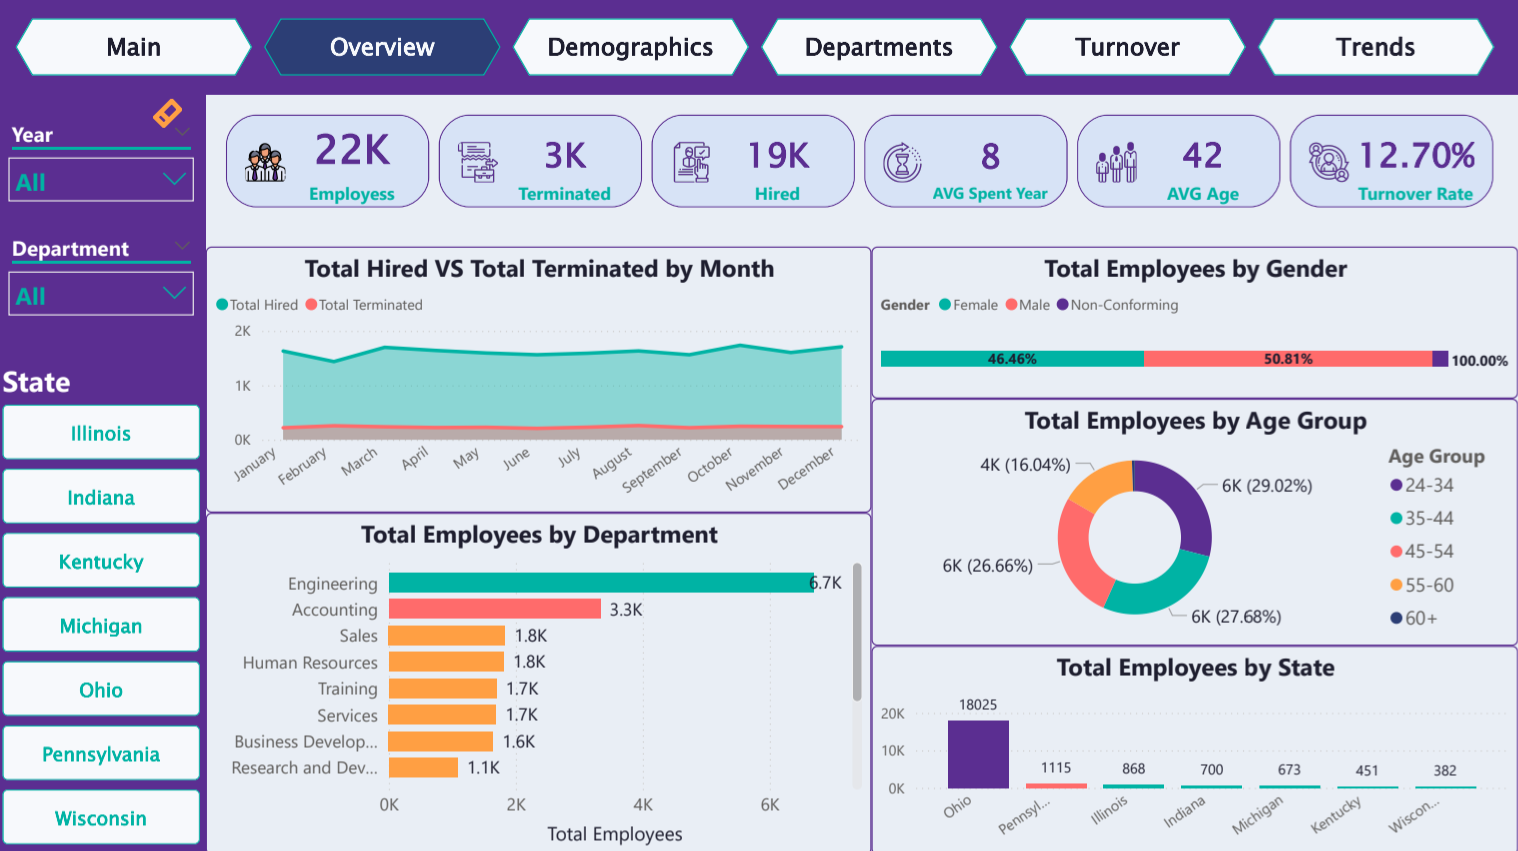

The dashboard page shown, as its layout file describes it:
{"tool":"powerbi","page":{"name":"Overview","canvas":[1280,720],"ordinal":1},"visuals":[{"type":"shape","box":[0,0,1280,80],"z":0,"group":"g1"},{"type":"cardVisual","fields":{"Data":["_Measures.Total_Emp","_Measures.Total_Term","_Measures.Total_Hire","_Measures.AVG_Spend_Year","_Measures.AVG_Age","_Measures.Turnover Rate"]},"box":[176,80,1104,112],"z":0},{"type":"pageNavigator","box":[16,16,1248,48],"z":1000,"group":"g1"},{"type":"donutChart","title":"Total Employees by Age Group","fields":{"Category":["Human Resources.Age Group"],"Y":["_Measures.Total_Emp"]},"box":[736,336,544,208],"z":1000},{"type":"barChart","title":"Total Employees by Gender","fields":{"Y":["_Measures.Total_Emp"],"Series":["Human Resources.gender"]},"box":[736,208,544,128],"z":2000},{"type":"clusteredBarChart","title":"Total Employees by Department","fields":{"Category":["Human Resources.department"],"Y":["_Measures.Total_Emp"]},"box":[176,432,560,288],"z":3000},{"type":"group","id":"g1","title":"Group 1","box":[0,0,1280,80],"z":4000,"group":"g2"},{"type":"areaChart","title":"Total Hired VS Total Terminated by Month ","fields":{"Category":["calender_table.Month Name"],"Y":["_Measures.Total_Hire","_Measures.Total_Term_R"]},"box":[176,208,560,224],"z":4000},{"type":"shape","box":[0,80,176,640],"z":5000,"group":"g4"},{"type":"clusteredColumnChart","title":"Total Employees by State","fields":{"Category":["Human Resources.location_state"],"Y":["_Measures.Total_Emp"]},"box":[736,544,544,176],"z":5000},{"type":"group","id":"g2","title":"Group 4","box":[0,0,1280,720],"z":6000},{"type":"group","id":"g3","title":"Group 2","box":[0,96,176,624],"z":6000,"group":"g4"},{"type":"slicer","fields":{"Values":["calender_table.Year"]},"box":[0,96,176,96],"z":8000,"group":"g3"},{"type":"actionButton","box":[128,80,48,32],"z":8001,"group":"g4"},{"type":"group","id":"g4","title":"Group 3","box":[0,80,176,640],"z":8002,"group":"g2"},{"type":"slicer","fields":{"Values":["Human Resources.department"]},"box":[0,192,176,96],"z":9000,"group":"g3"},{"type":"advancedSlicerVisual","title":"State","fields":{"Values":["Human Resources.location_state"]},"box":[0,304,176,416],"z":10000,"group":"g3"}]}

Visuals, with their boxes in screenshot pixels (x1, y1, x2, y2), scaled from the page's 1280x720 canvas onto the 1518x851 screenshot:
shape: [0,0,1517,95]
cardVisual - _Measures.Total_Emp x _Measures.Total_Term: [209,95,1517,227]
pageNavigator: [19,19,1499,76]
"Total Employees by Age Group" donutChart: [873,397,1517,643]
"Total Employees by Gender" barChart: [873,246,1517,397]
"Total Employees by Department" clusteredBarChart: [209,511,873,850]
"Group 1" group: [0,0,1517,95]
"Total Hired VS Total Terminated by Month " areaChart: [209,246,873,511]
shape: [0,95,209,850]
"Total Employees by State" clusteredColumnChart: [873,643,1517,850]
"Group 4" group: [0,0,1517,850]
"Group 2" group: [0,113,209,850]
slicer - calender_table.Year: [0,113,209,227]
actionButton: [152,95,209,132]
"Group 3" group: [0,95,209,850]
slicer - Human Resources.department: [0,227,209,340]
"State" advancedSlicerVisual: [0,359,209,850]
